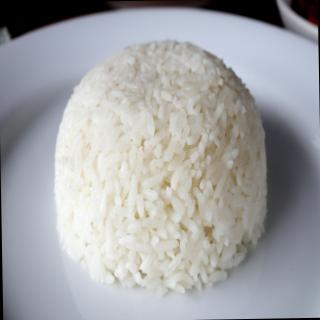Nasi: (50, 37, 271, 298)
